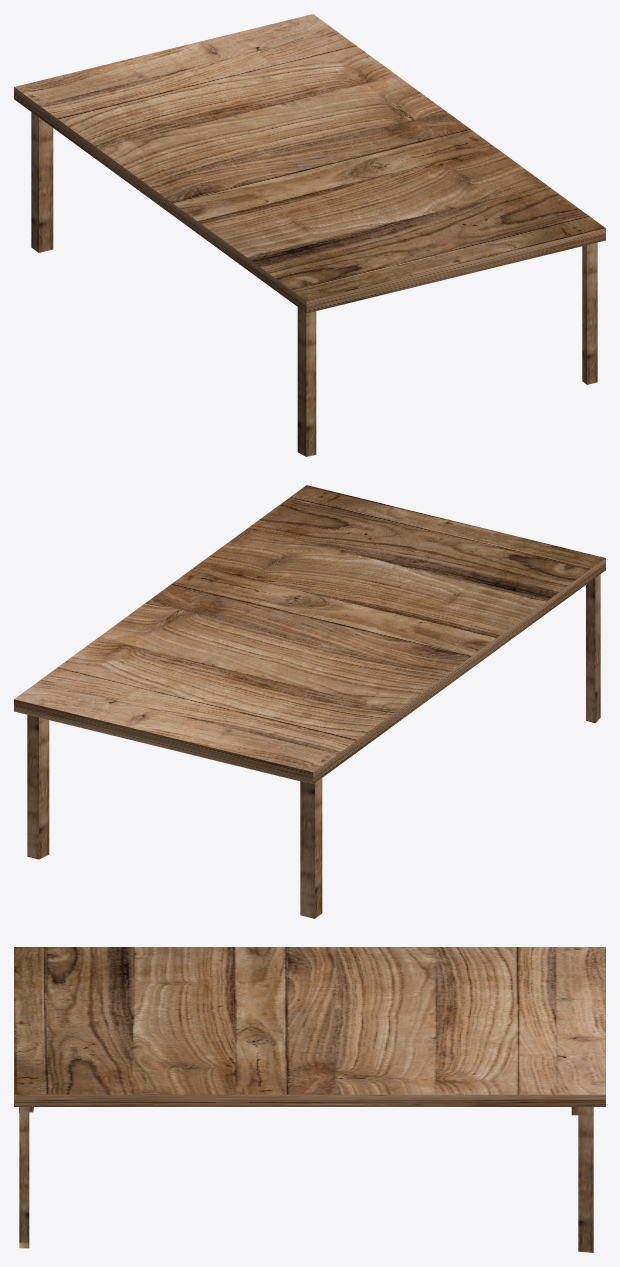
File: table.obj
The picture shows the model from 3 angles, top to bottom: view 1: azimuth 30°, elevation 25°; view 2: azimuth 150°, elevation 25°; view 3: azimuth 270°, elevation 25°; orthographic projection.
Visible parts, largest first — view 1: Cube; view 2: Cube; view 3: Cube.
Part boxes in pixels (<box>): Cube: <box>14,14,605,456</box>; Cube: <box>14,485,605,918</box>; Cube: <box>14,947,605,1252</box>.
Size of the model in its own units: 17.06 by 8.71 by 28.9.
